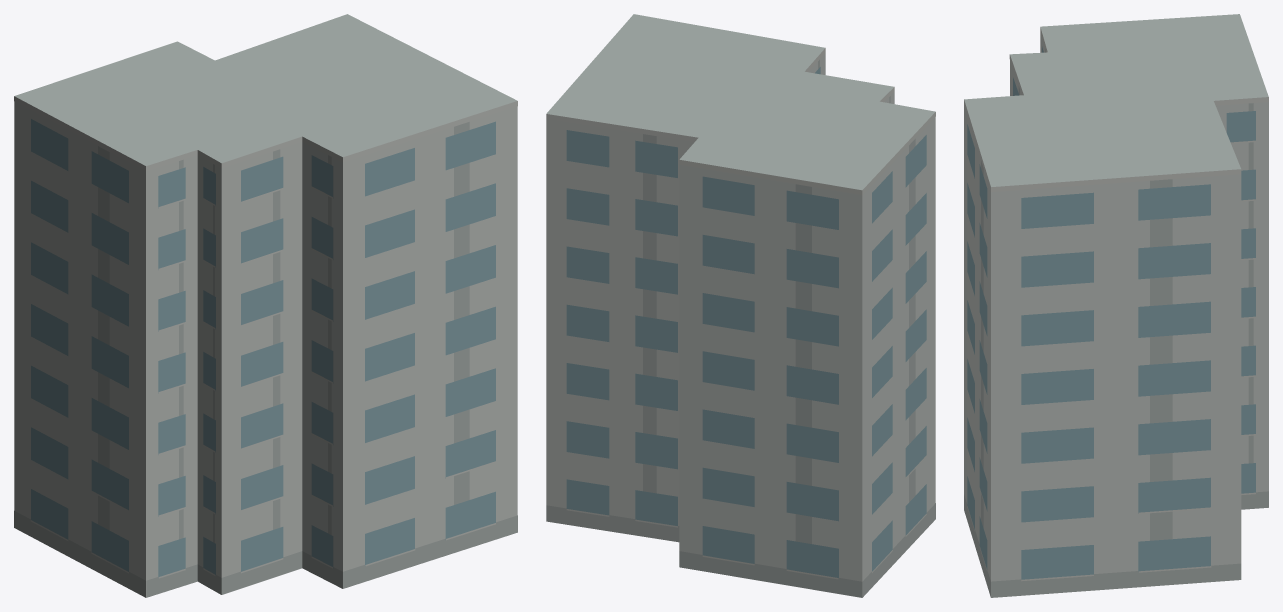
The model's file is survey-upis-32724601.glb.
3 renders of one model, left to right at view 1: azimuth 30°, elevation 25°; view 2: azimuth 150°, elevation 25°; view 3: azimuth 270°, elevation 25°, orthographic. The views are drawn at different scales.
Visible parts, largest first — view 1: survey-upis-32724601.tmp; view 2: survey-upis-32724601.tmp; view 3: survey-upis-32724601.tmp.
Boxes of the visible parts, <box> form: survey-upis-32724601.tmp: <box>14,14,517,597</box>; survey-upis-32724601.tmp: <box>546,14,935,597</box>; survey-upis-32724601.tmp: <box>964,14,1268,597</box>.
Bounding box in the file's own units: 17.82 × 19.7 × 13.26.
